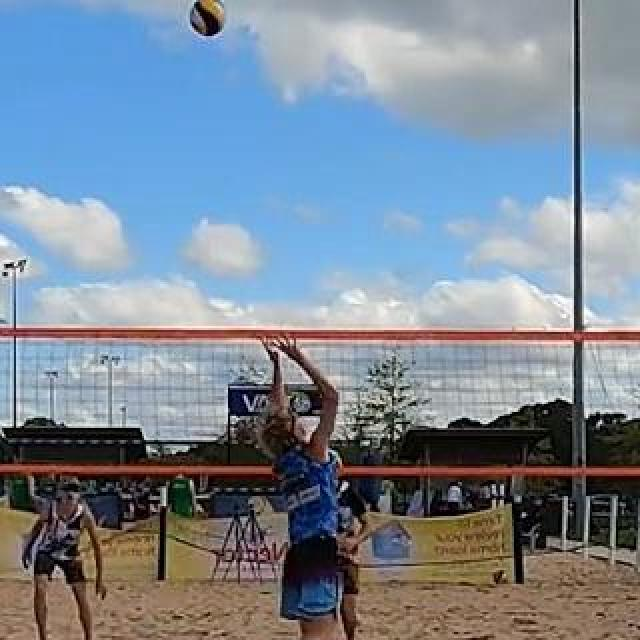volleyball: (190, 1, 226, 35), (493, 568, 509, 586)
